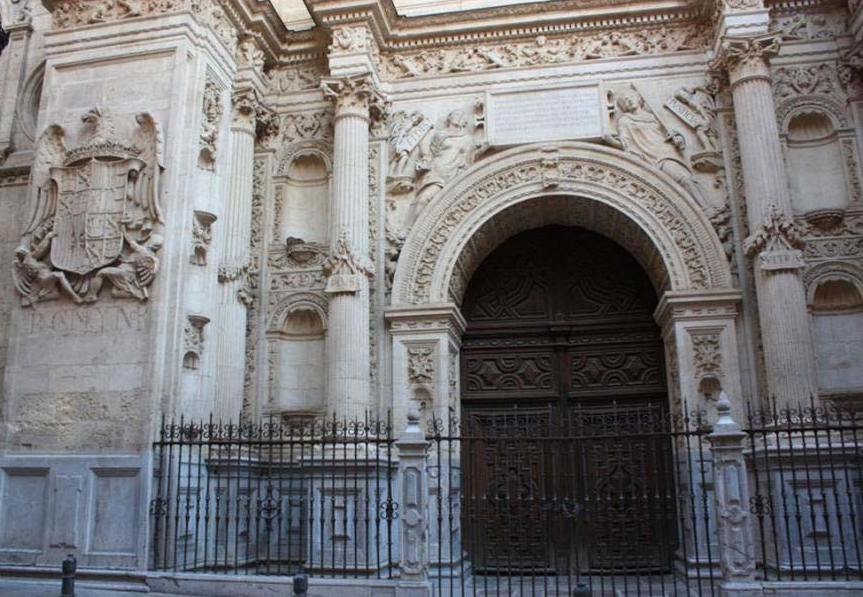arco-medio-punto: (437, 188, 686, 336)
